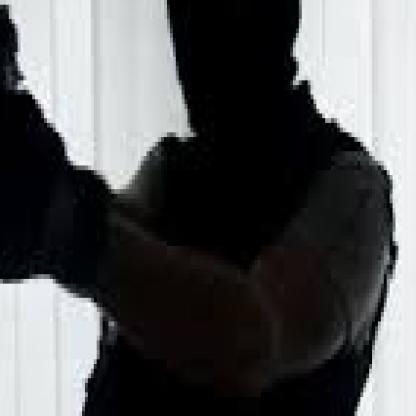gun: (0, 0, 35, 199)
